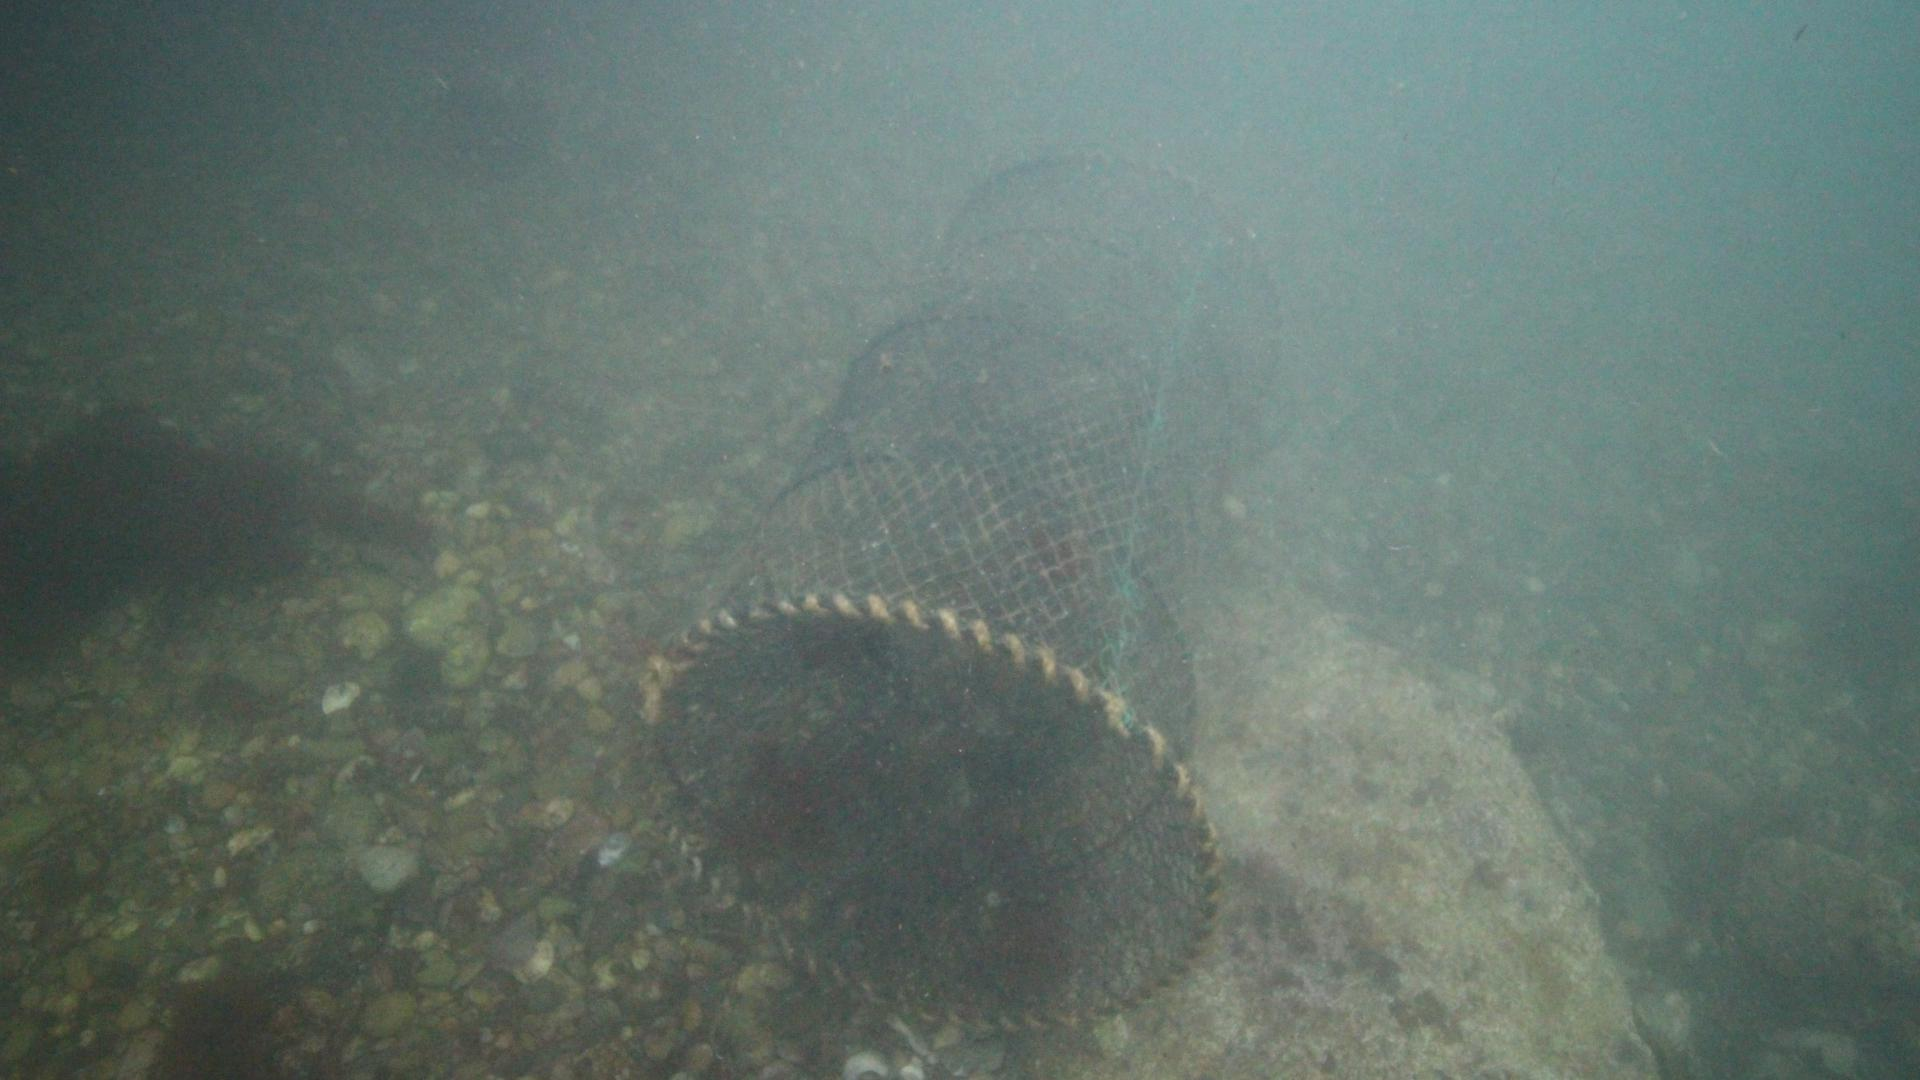spring fish trap: (638, 146, 1291, 1035)
